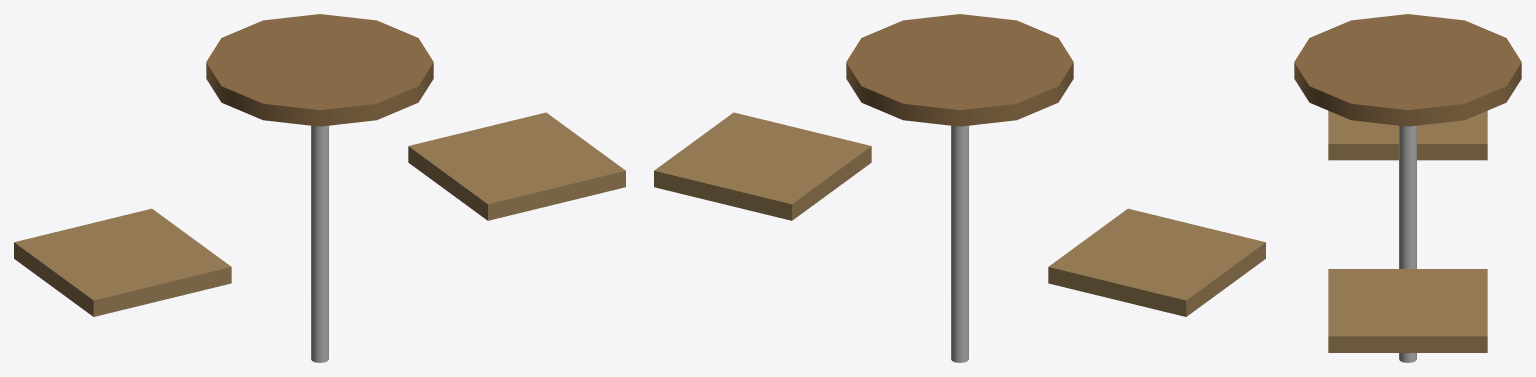
The model's file is env-mod-cafetable.glb.
3 renders of one model, left to right at view 1: azimuth 30°, elevation 25°; view 2: azimuth 150°, elevation 25°; view 3: azimuth 270°, elevation 25°, orthographic.
Size of the model in its own units: 1.35 by 0.72 by 0.5.
